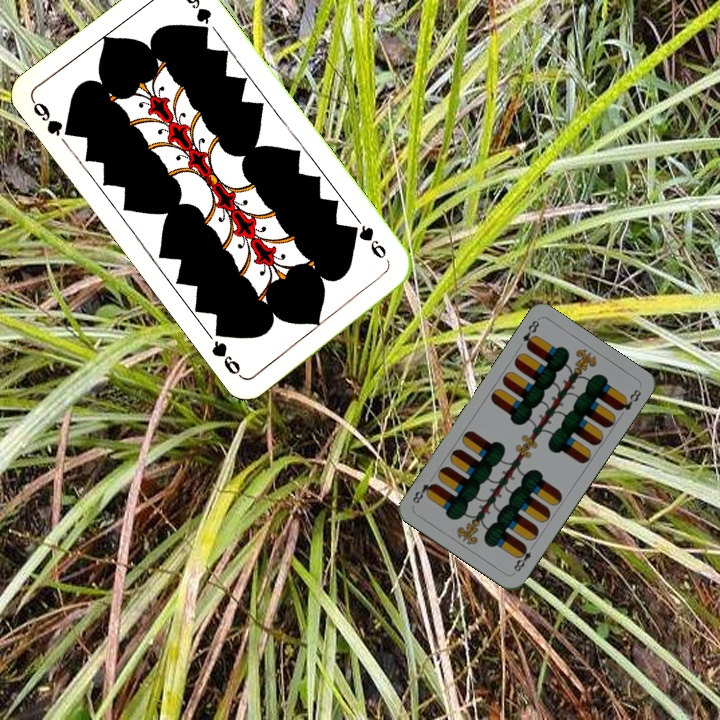E8: (510, 540, 537, 574), (519, 316, 542, 351)
G9: (28, 96, 78, 140), (346, 220, 389, 262)
